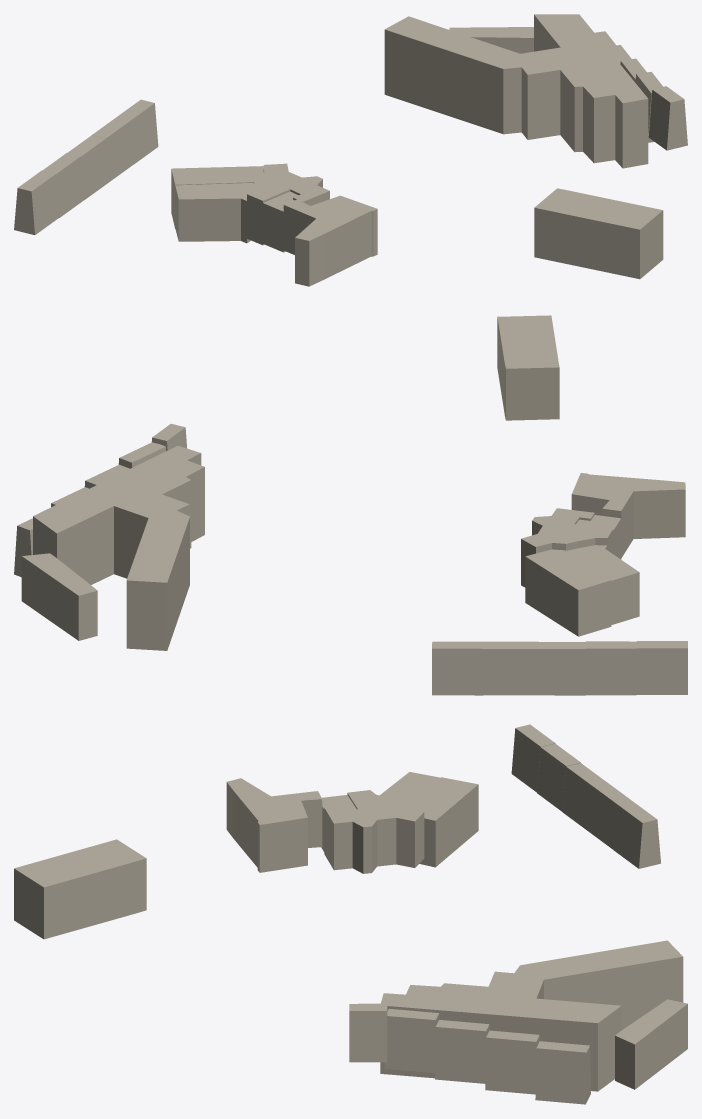
Rendered from bormla_62_27_mid.glb.
3 views of the same model, one above another, from view 1: azimuth 30°, elevation 25°; view 2: azimuth 150°, elevation 25°; view 3: azimuth 270°, elevation 25° (orthographic). The views are drawn at different scales.
Visible parts, largest first — view 1: geometry_0; view 2: geometry_0; view 3: geometry_0.
Boxes of the visible parts, box(x1,y1,x2,y2) form: geometry_0: box(14, 14, 687, 286); geometry_0: box(14, 315, 687, 695); geometry_0: box(14, 724, 687, 1104).
Bounding box in the file's own units: 176 × 29.32 × 158.
